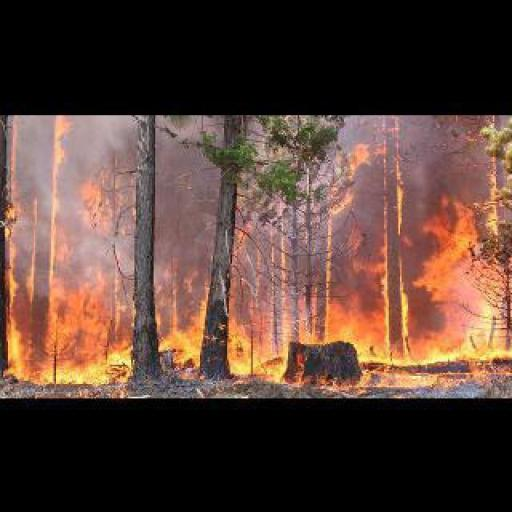smoke: (6, 117, 510, 384)
